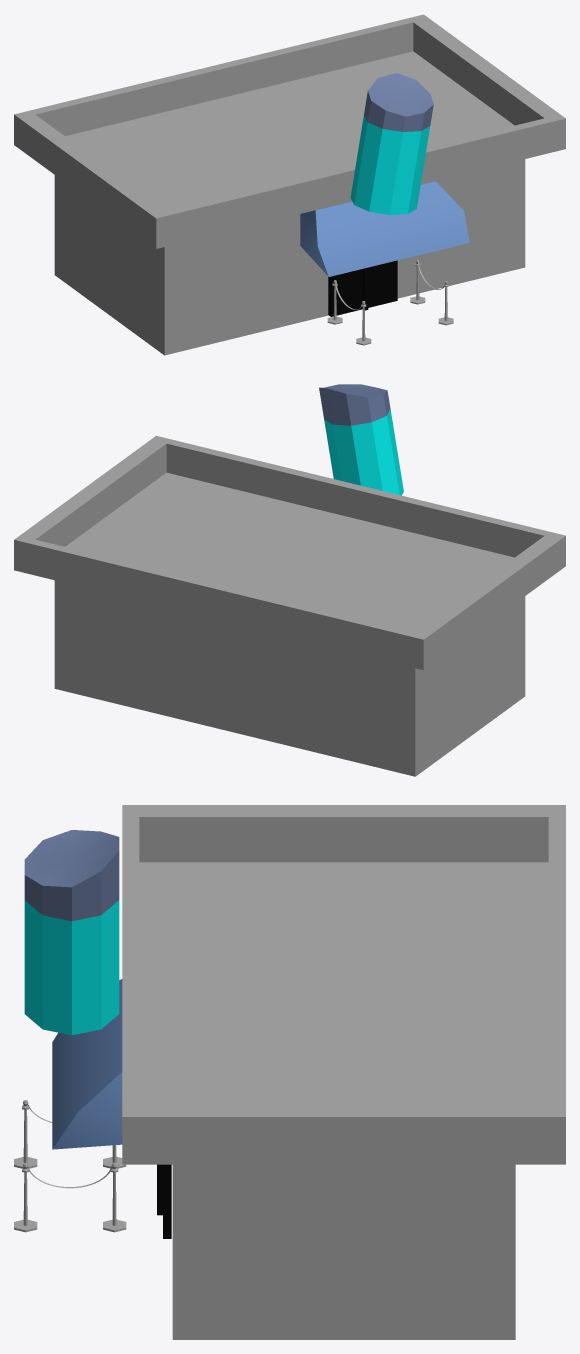
Rendered from Bar.fbx.
3 renders of one model, top to bottom at view 1: azimuth 30°, elevation 25°; view 2: azimuth 150°, elevation 25°; view 3: azimuth 270°, elevation 25°, orthographic. The views are drawn at different scales.
Parts seen in each view (by area): view 1: Bar, pCylinder92, pCylinder98, pCube313, pCylinder97; view 2: Bar, pCylinder98; view 3: Bar, pCylinder98, pCylinder92, pCylinder97, pCube313.
Boxes of the visible parts, x1,y1,x2,y2 form: Bar: (14,14,565,355); pCylinder92: (300,181,469,276); pCylinder98: (350,73,433,214); pCube313: (328,260,397,316); pCylinder97: (410,260,453,325); Bar: (14,435,565,776); pCylinder98: (319,384,403,495); Bar: (122,805,565,1339); pCylinder98: (24,830,119,1035); pCylinder92: (52,979,122,1149); pCylinder97: (14,1162,126,1232); pCube313: (157,1164,171,1238).
Size of the model in its own units: 215 by 122 by 161.
